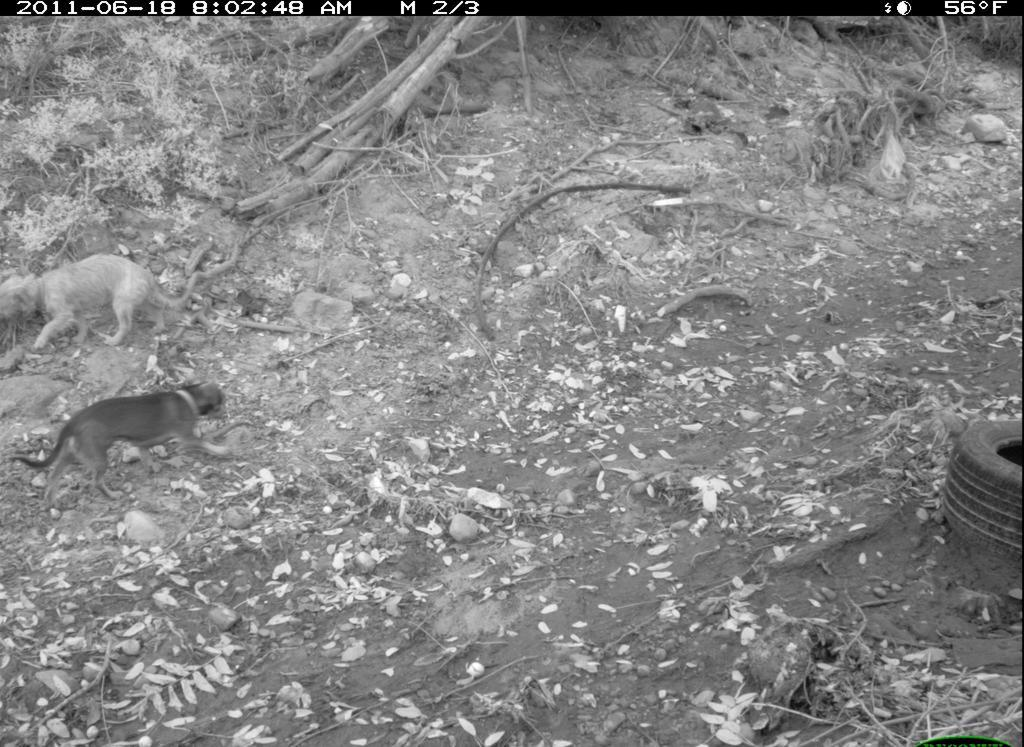dog: (9, 376, 247, 510), (9, 247, 217, 357)
